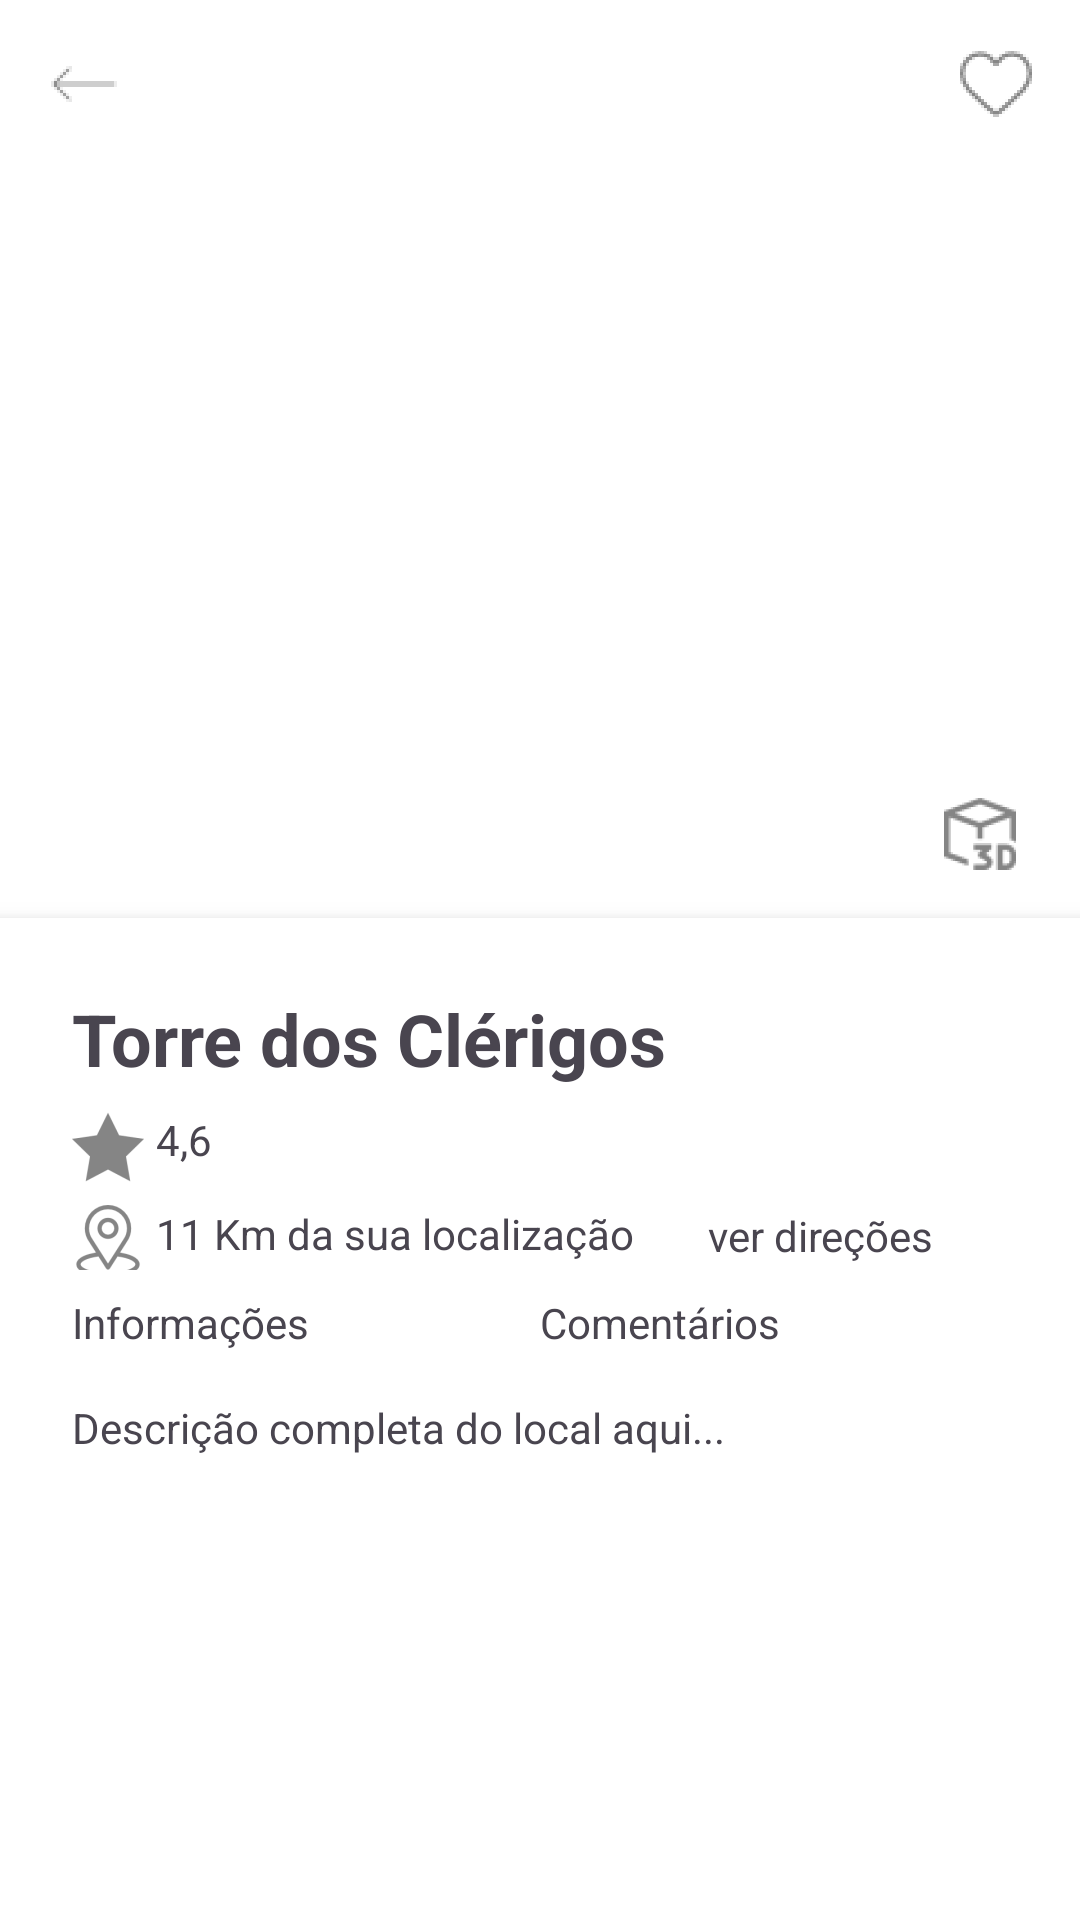

Icon click points for this 1080 × 1920 phone screenshot, format (x,y):
Adicionar aos favoritos: (996,84)
voltar: (84,84)
